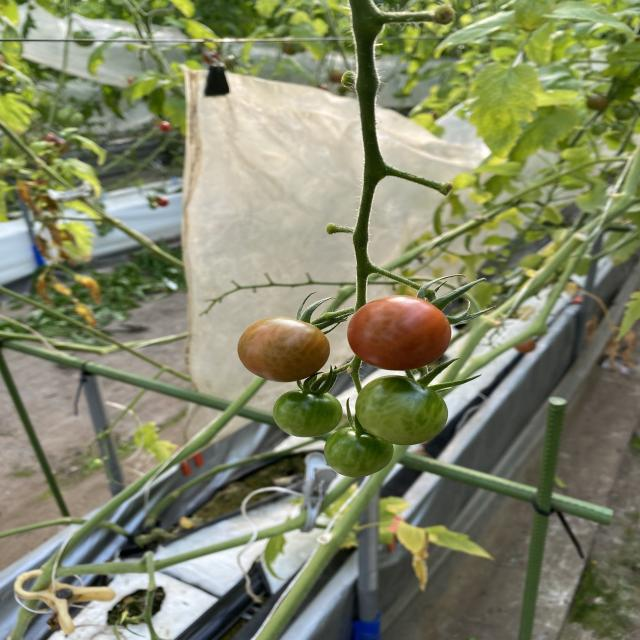c-half-riped: (237, 317, 331, 383)
c-riped: (347, 296, 451, 370)
c-unriped: (356, 375, 449, 445), (324, 427, 393, 478), (274, 389, 344, 437)
